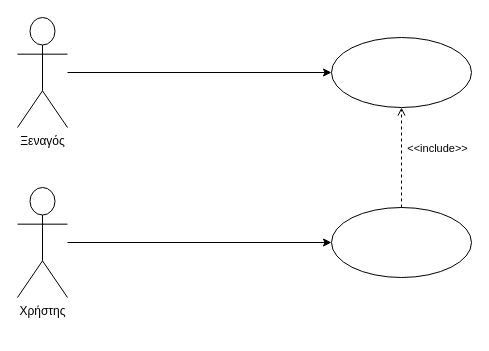
Some shapes in this 489 by 351 pixel diagram are drawn without their labels. Each missing label, with the centre of its shape:
Ανάρτηση ξενάγησης: (x=401, y=72)
Συμμετοχή σε ξανάγηση: (x=401, y=242)
